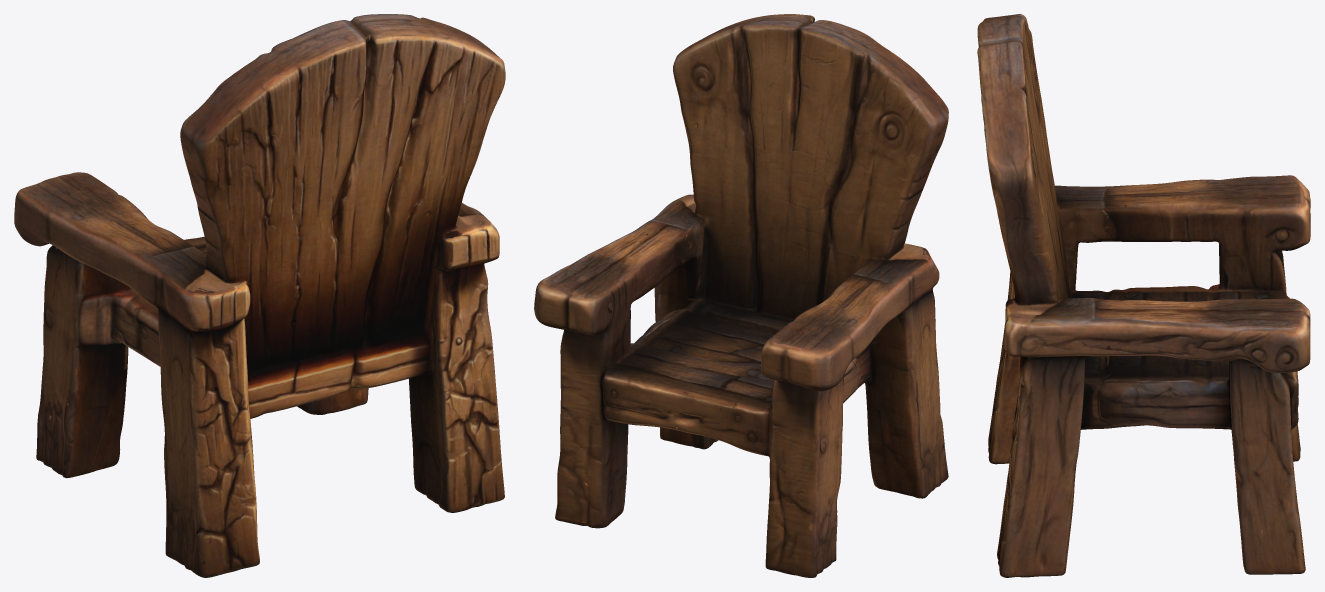
File: A_Dungeons_Dragons__1214020752.glb
The picture shows the model from 3 angles, left to right: view 1: azimuth 30°, elevation 25°; view 2: azimuth 150°, elevation 25°; view 3: azimuth 270°, elevation 25°; orthographic projection. The views are drawn at different scales.
Bounding box in the file's own units: 1.44 × 2 × 1.28.
1 material, 1 textured.
